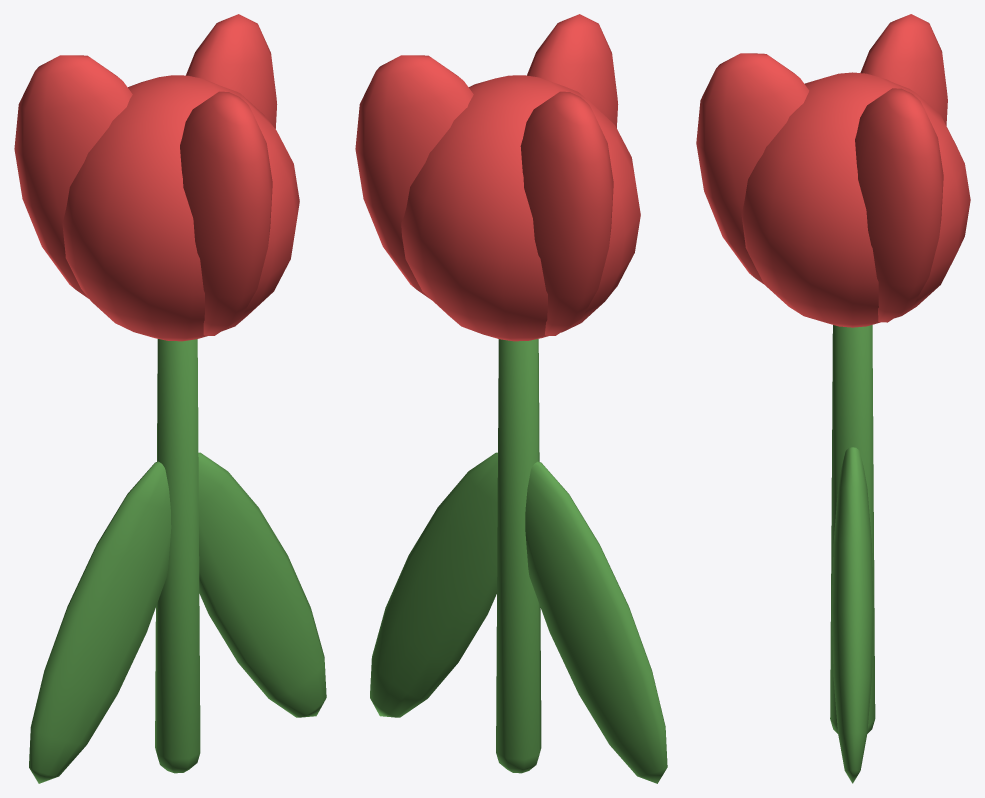
The model's file is tulip.glb.
3 views of the same model, side by side, from view 1: azimuth 30°, elevation 25°; view 2: azimuth 150°, elevation 25°; view 3: azimuth 270°, elevation 25° (orthographic). The views are drawn at different scales.
Parts seen in each view (by area): view 1: flower; view 2: flower; view 3: flower.
Part boxes in pixels (left/top/right/bottom): flower: left=14, top=14, right=326, bottom=783; flower: left=355, top=14, right=667, bottom=783; flower: left=696, top=14, right=970, bottom=783.
Bounding box in the file's own units: 0.1897 × 0.4355 × 0.1581.
